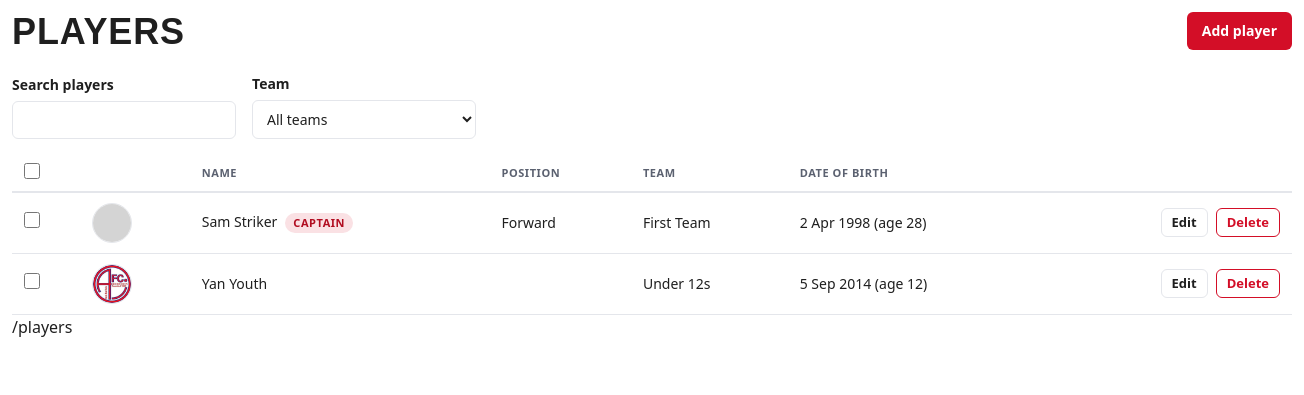
Test: PlayersPage › selects every shown player from the header
Click the checkbox named "Select all shown" in the row of "Name" at x=32, y=171, box [24,163,40,179]
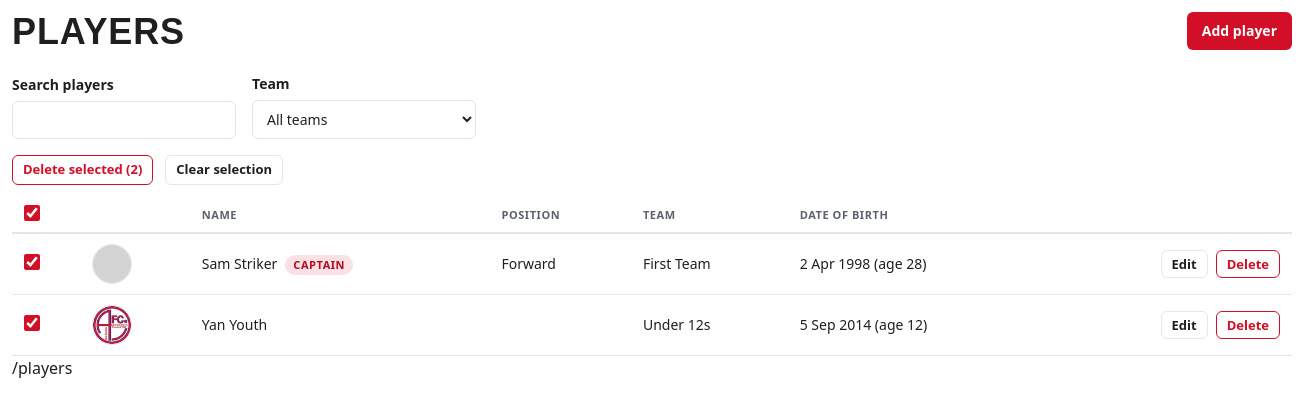
Now the button "Delete selected (2)" is shown, box [12,155,153,184]
